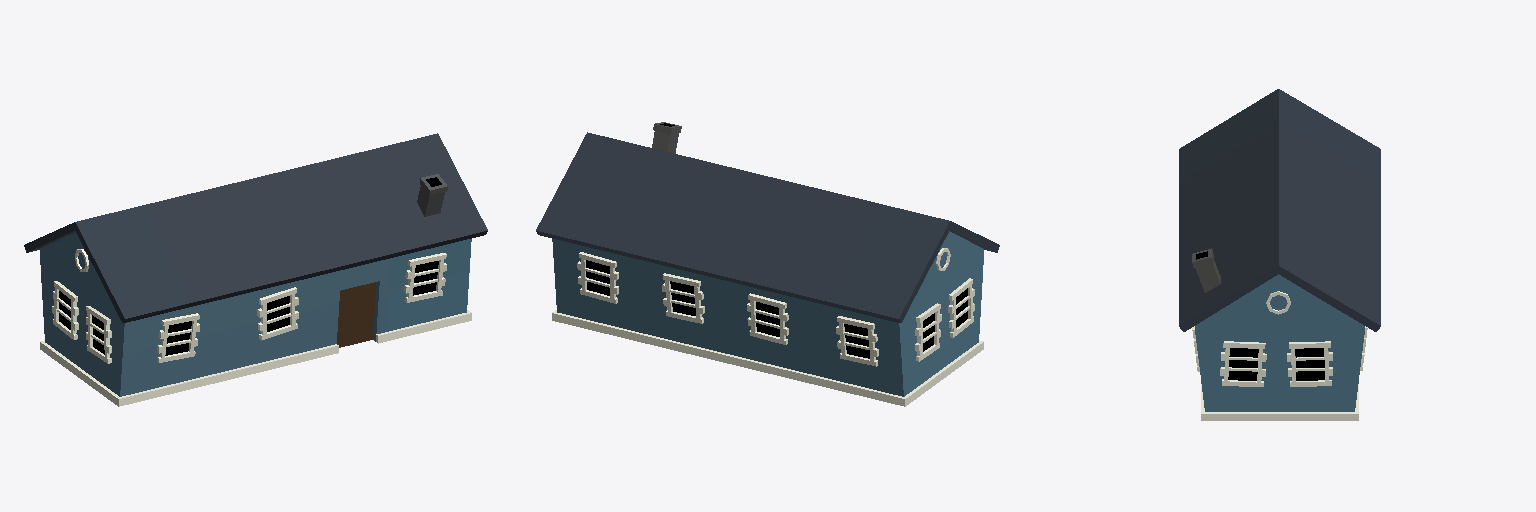
3 views of the same model, side by side, from view 1: azimuth 30°, elevation 25°; view 2: azimuth 150°, elevation 25°; view 3: azimuth 270°, elevation 25° (orthographic).
Visible parts, largest first — view 1: casa3:h3; view 2: casa3:h3; view 3: casa3:h3.
Boxes of the visible parts, x1=… form: casa3:h3: x1=24, y1=133, x2=487, y2=406; casa3:h3: x1=536, y1=122, x2=999, y2=406; casa3:h3: x1=1179, y1=89, x2=1380, y2=420.
Bounding box in the file's own units: 40.96 × 17.02 × 19.8.
1 materials, 1 textured.